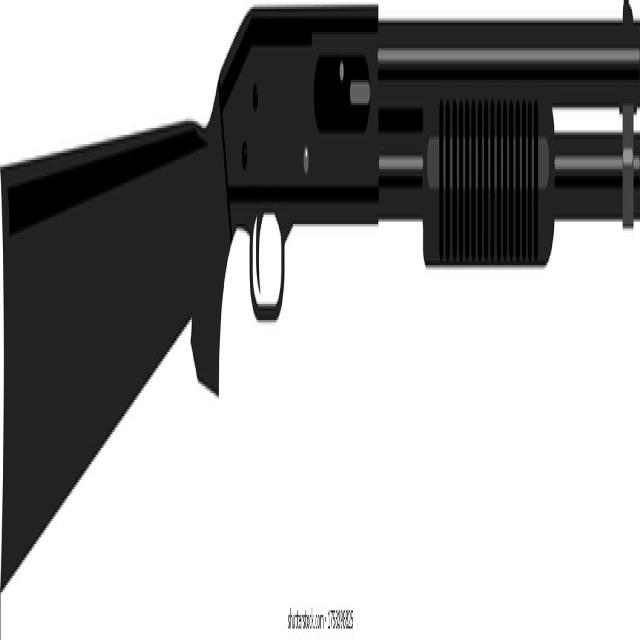ShotGun: (0, 0, 640, 567)
